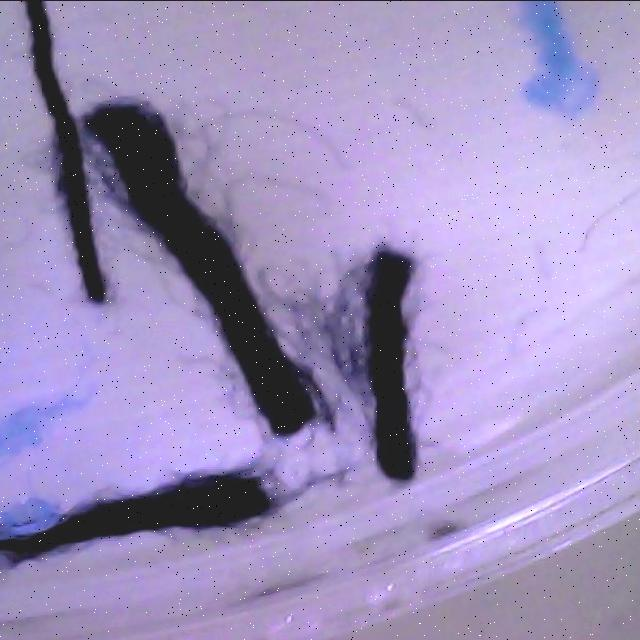Fibre: (21, 0, 115, 316), (351, 241, 433, 497), (176, 96, 354, 182), (569, 164, 640, 260), (494, 296, 548, 380), (380, 82, 452, 144)
